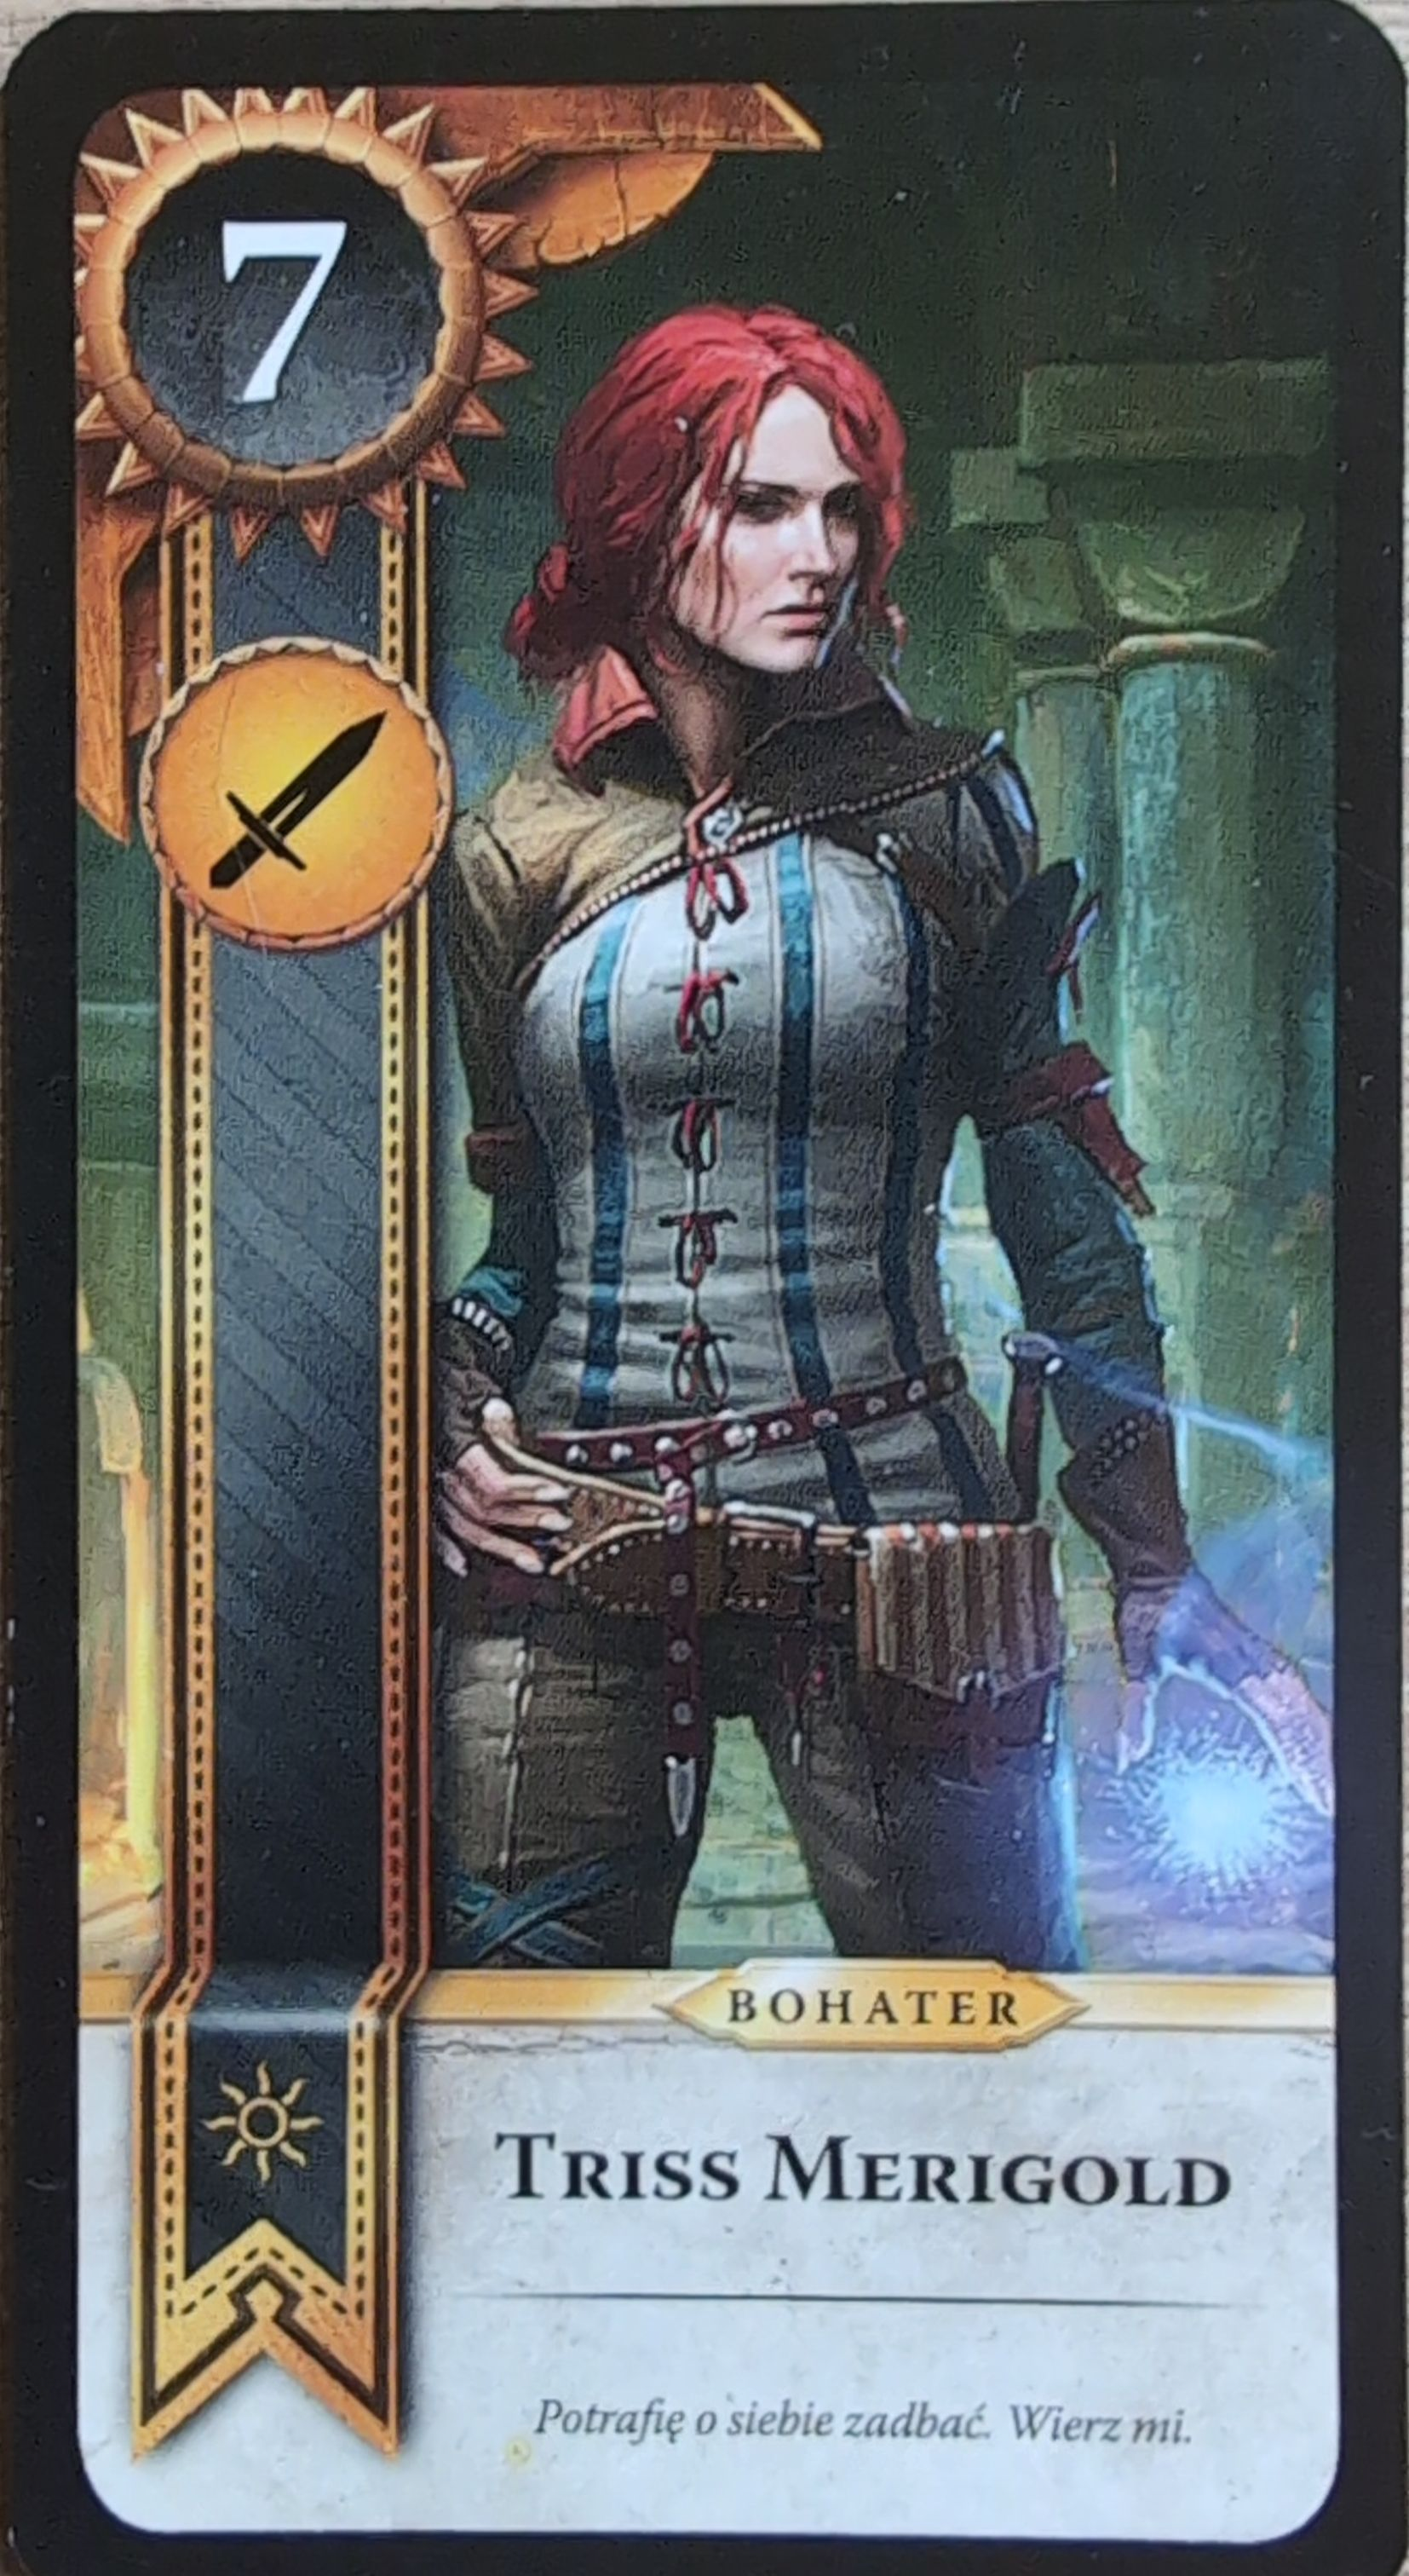miecz: (130, 627, 451, 936)
punkty: (92, 106, 505, 517)
